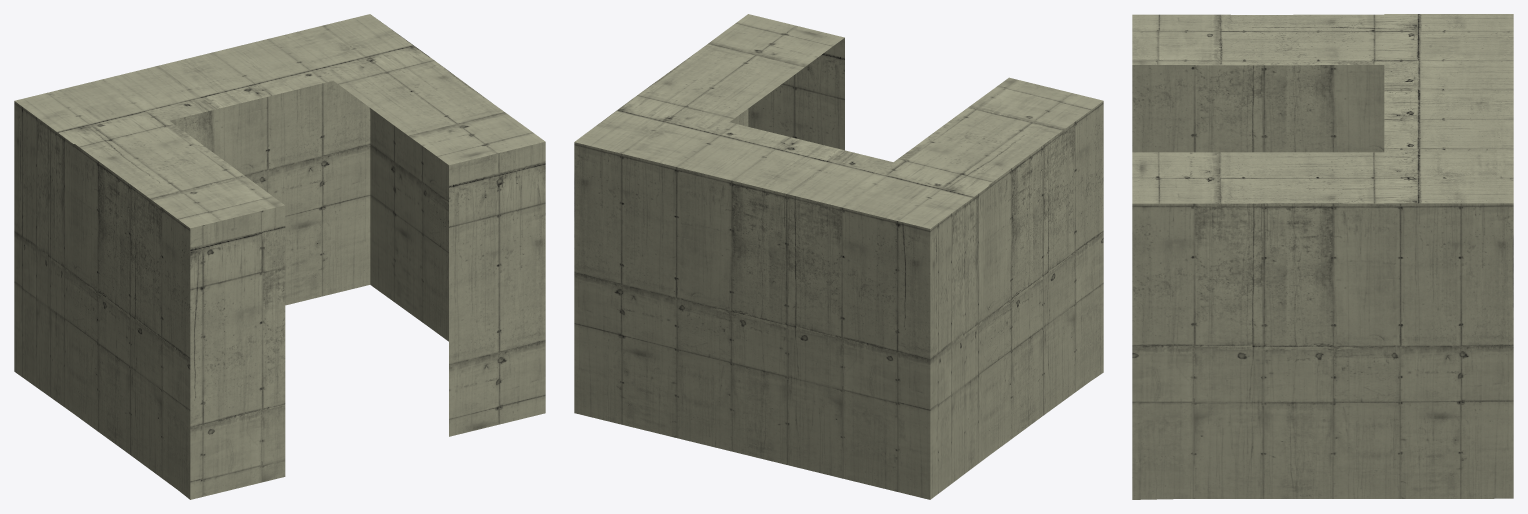
The model's file is SM_NeoLD_00_Block_02.fbx.
3 renders of one model, left to right at view 1: azimuth 30°, elevation 25°; view 2: azimuth 150°, elevation 25°; view 3: azimuth 270°, elevation 25°, orthographic. The views are drawn at different scales.
Parts seen in each view (by area): view 1: SM_NeoLD_00_Block_02; view 2: SM_NeoLD_00_Block_02; view 3: SM_NeoLD_00_Block_02.
Part boxes in pixels (x1,y1,x2,y2): SM_NeoLD_00_Block_02: (14,14,545,499); SM_NeoLD_00_Block_02: (574,14,1103,499); SM_NeoLD_00_Block_02: (1132,14,1513,499).
Size of the model in its own units: 5076 by 3695 by 4308.
